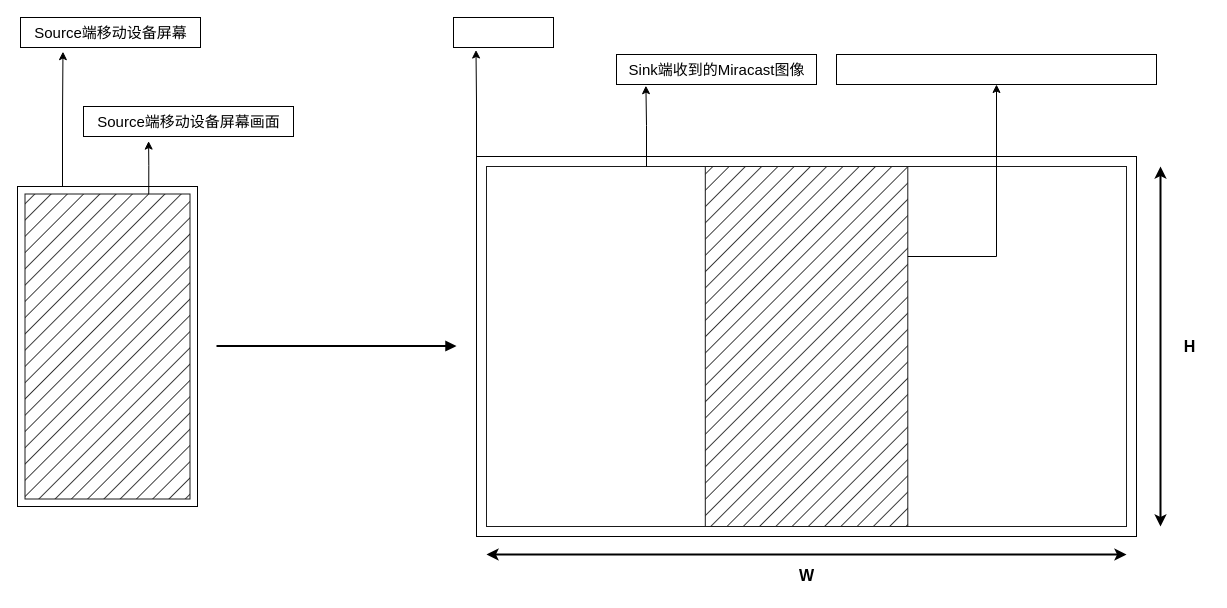
The diagram is 1227 pixels wide and 608 high, and some of its shapes have lost their labels. The shapes that lost their labels are listed below. From the top down, each one's centre as x and y in pixels, then its label:
At point (503, 32): "Sink端屏幕".
At point (996, 69): "Sink端收到的Miracast图像中的有效内容区域".
